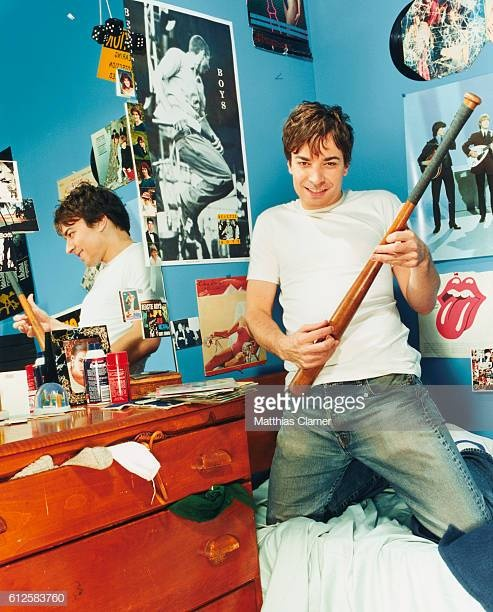bita: (287, 91, 475, 401)
